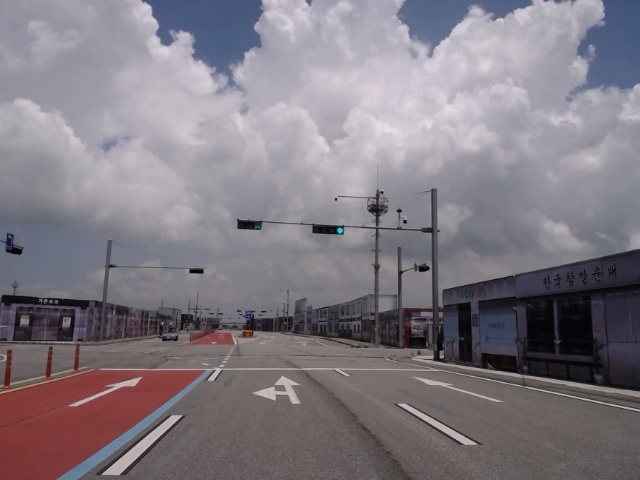straight_green_4: (311, 224, 345, 236)
